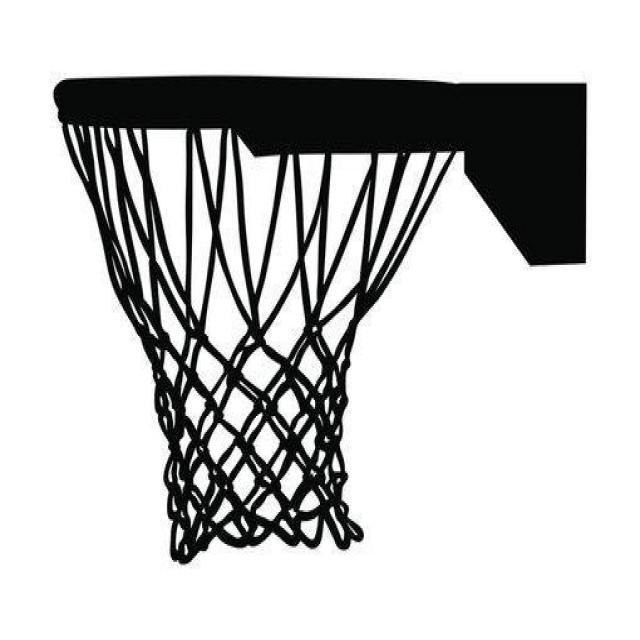hoop: (54, 76, 462, 563)
